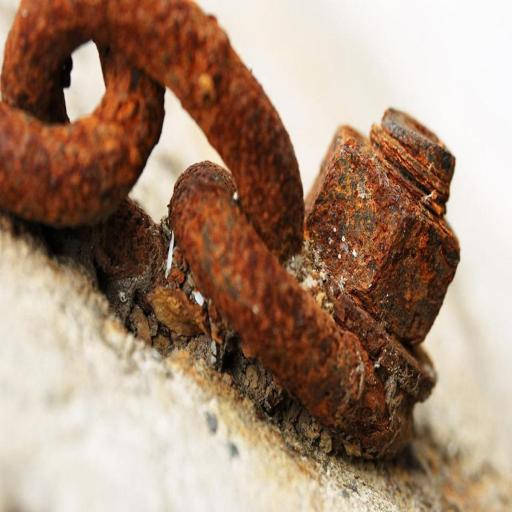segmentation: (53, 176, 370, 512), (132, 152, 404, 458), (259, 120, 500, 355), (299, 109, 467, 419), (62, 191, 188, 321), (280, 238, 352, 318)
